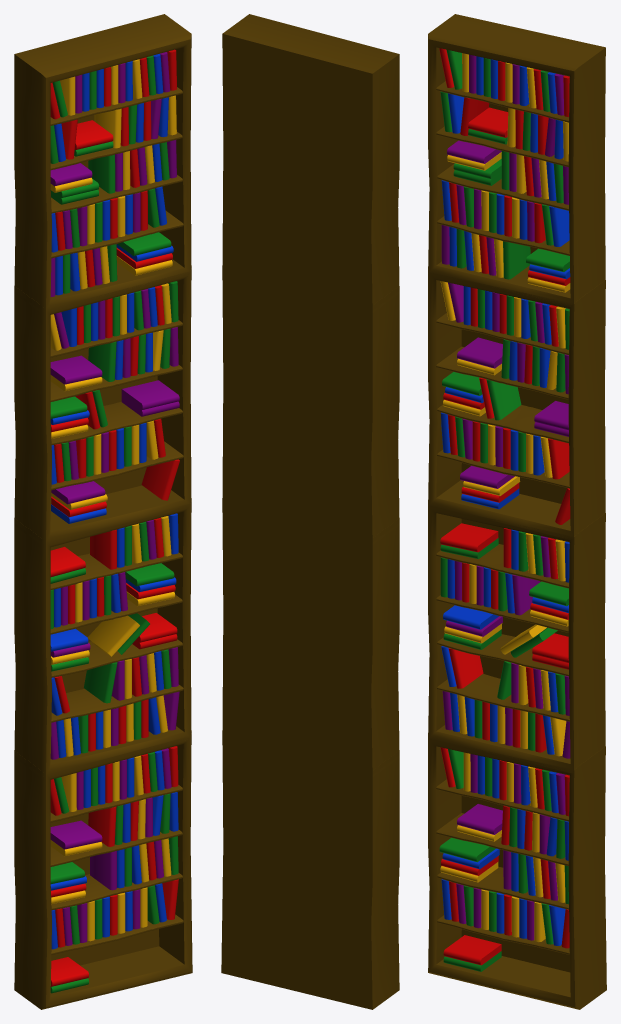
Rendered from bookshelf.fbx.
3 views of the same model, side by side, from view 1: azimuth 30°, elevation 25°; view 2: azimuth 150°, elevation 25°; view 3: azimuth 330°, elevation 25° (orthographic).
Parts seen in each view (by area): view 1: books, shelf_04, shelf_01, shelf_03, shelf_02; view 2: shelf_04, shelf_01, shelf_03, shelf_02; view 3: books, shelf_01, shelf_04, shelf_03, shelf_02.
Part boxes in pixels (<box>): books: <box>50,49,179,993</box>; shelf_04: <box>14,14,191,312</box>; shelf_01: <box>14,730,192,1009</box>; shelf_03: <box>14,265,191,544</box>; shelf_02: <box>14,498,191,777</box>; shelf_04: <box>222,14,399,312</box>; shelf_01: <box>221,730,399,1009</box>; shelf_03: <box>222,265,399,544</box>; shelf_02: <box>222,498,399,776</box>; books: <box>439,48,570,971</box>; shelf_01: <box>428,733,606,1009</box>; shelf_04: <box>428,14,605,307</box>; shelf_03: <box>428,266,605,539</box>; shelf_02: <box>428,500,605,773</box>.
Size of the model in its own units: 94.85 by 563 by 31.41.
